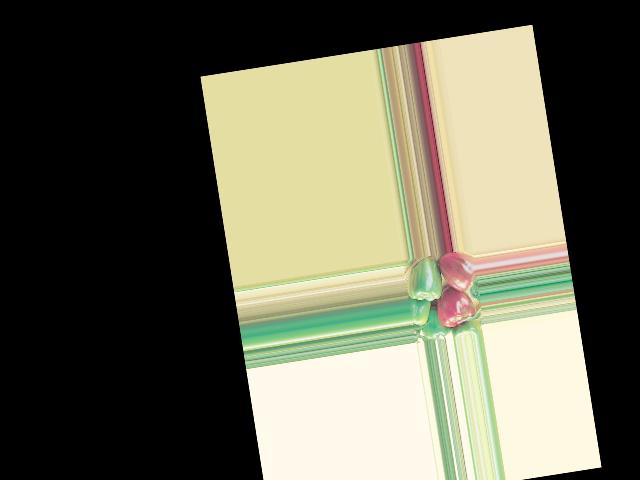bell_pepper: (439, 249, 477, 293)
